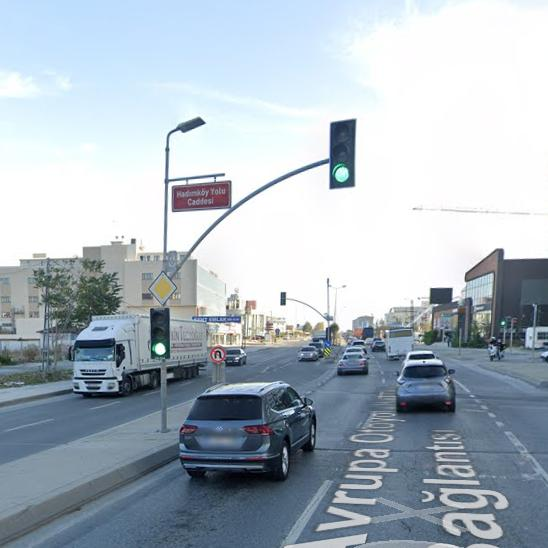greenlight: (331, 121, 353, 185), (150, 308, 169, 356)
